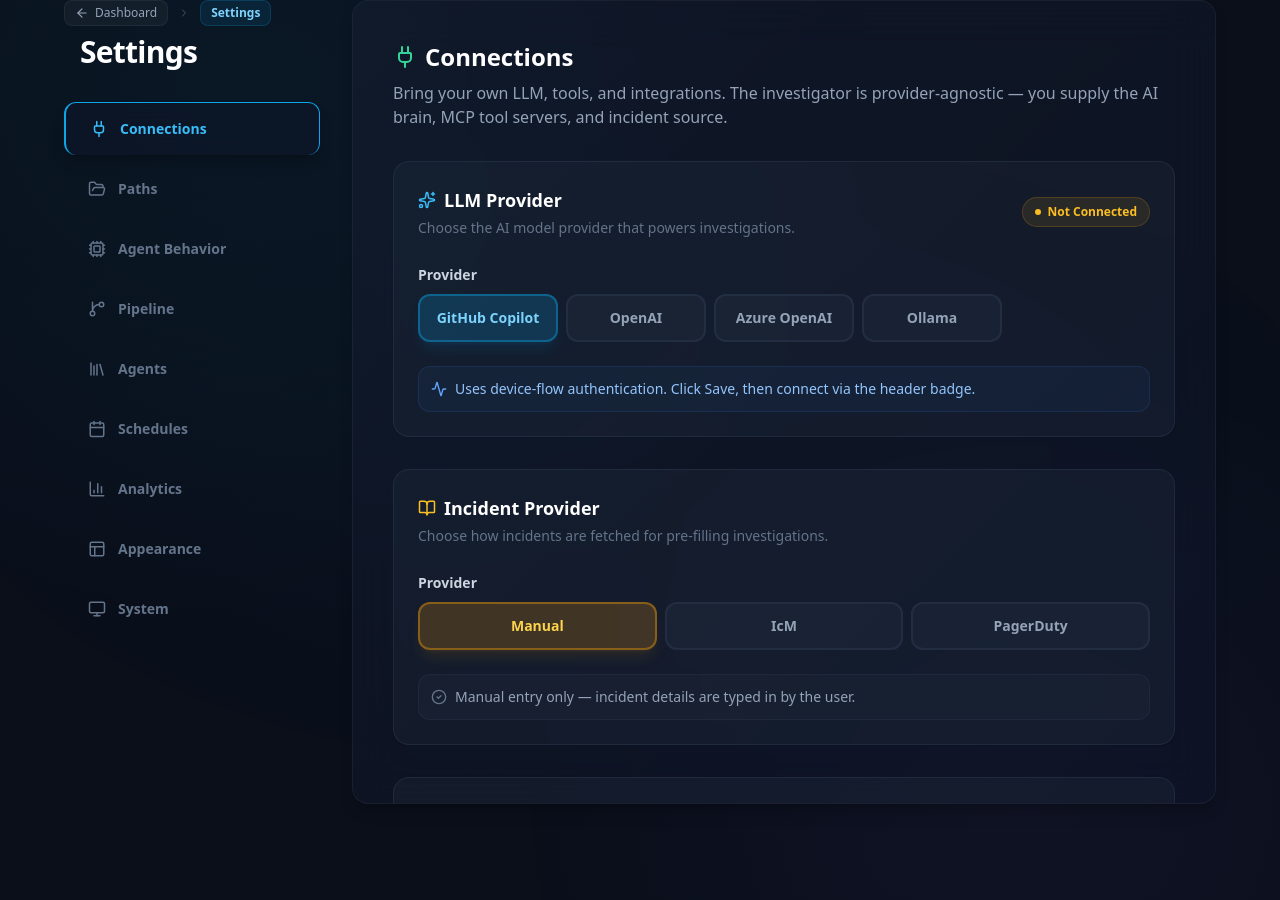
Scenario: Settings › Tab Switching › switches to Agent Behavior tab and shows max steps slider
Check: the heading "Settings" is shown, box [80,31,197,72]
Click the button "Agent Behavior". click: [192, 249]
box: [64,223,320,275]
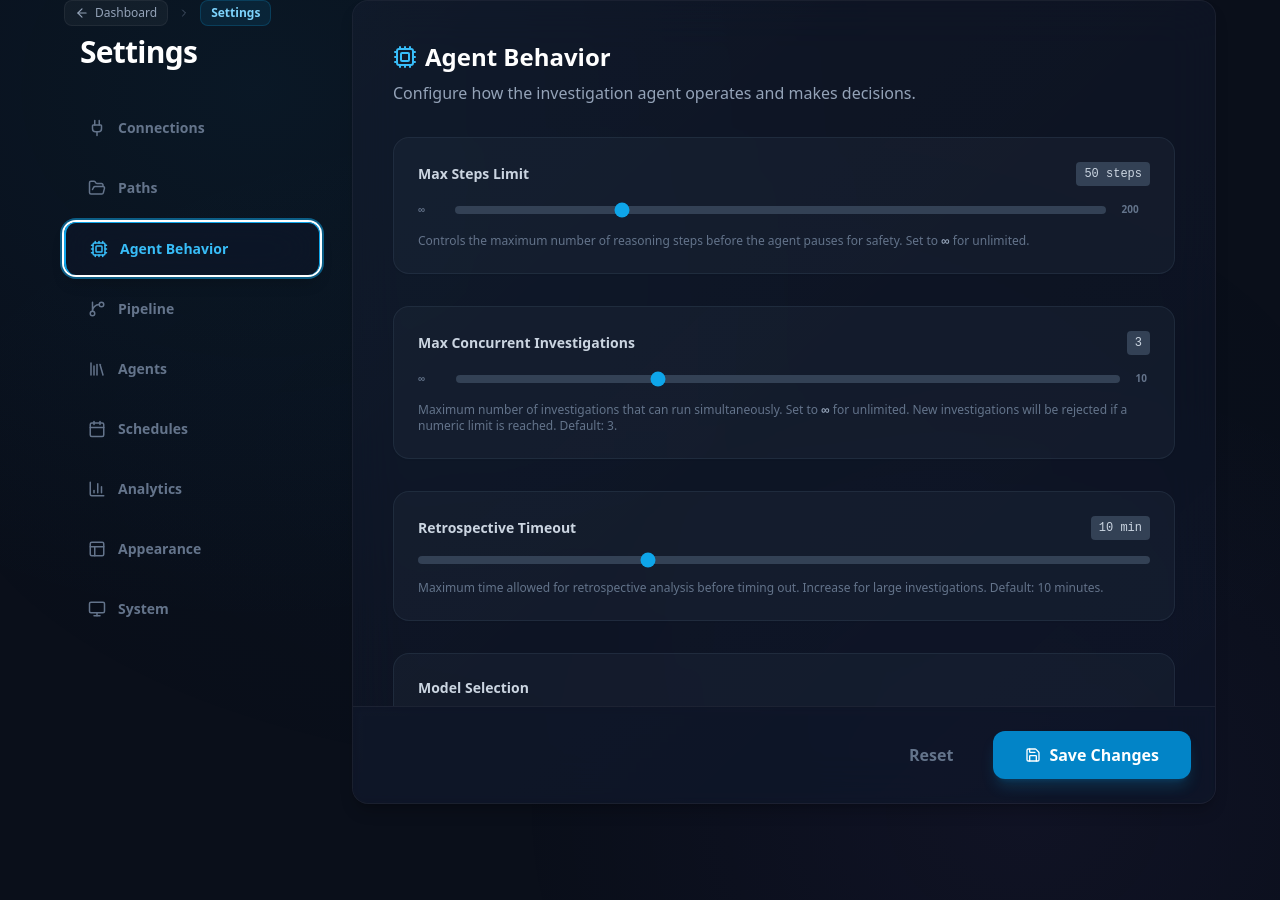
Check: the text "Max Steps Limit" is shown, box [418,164,529,184]
Check: the text "Model Selection" is shown, box [418,678,529,697]
